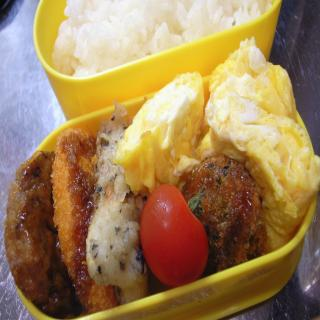Tomato: (140, 182, 209, 290)
